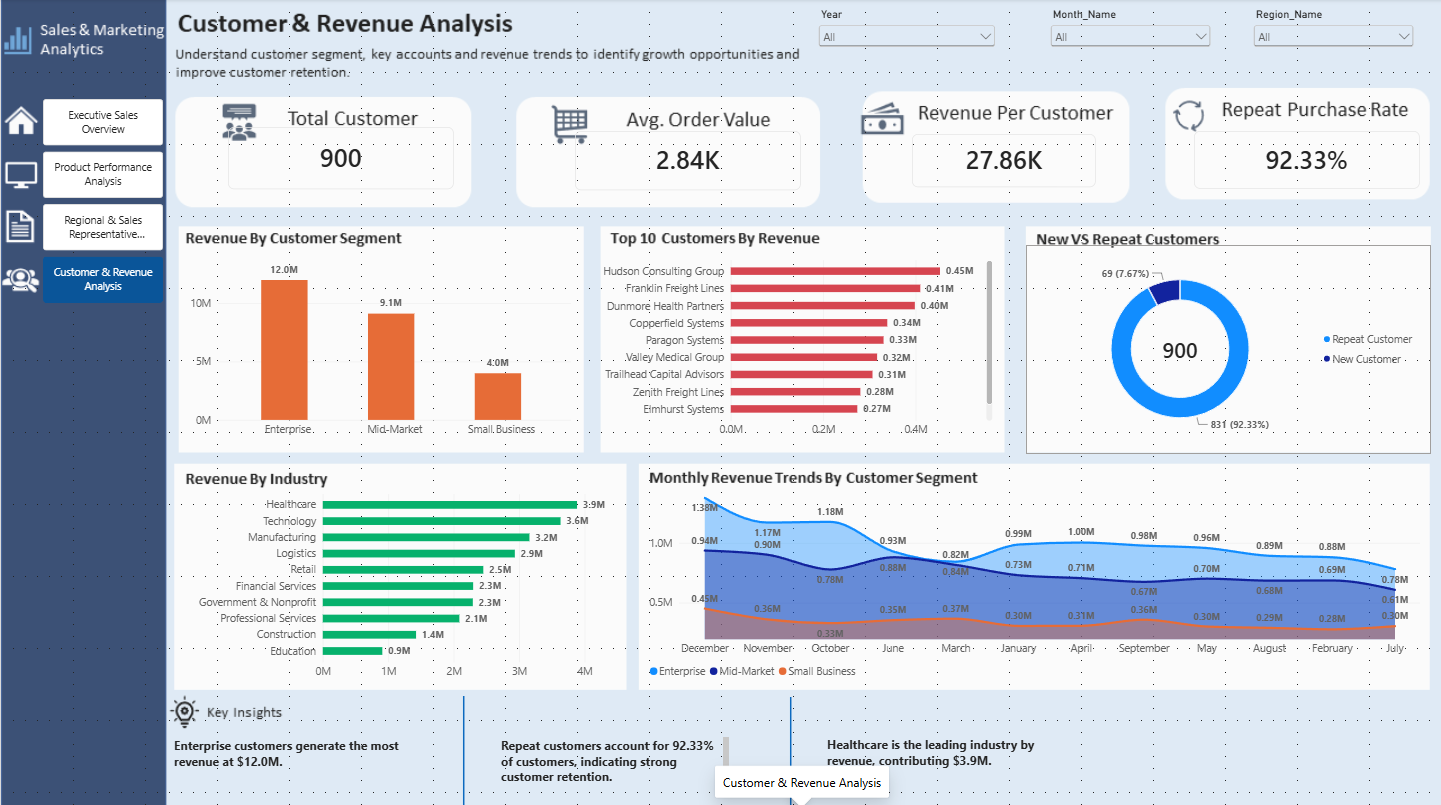

Layout of this report page (visuals, bound fields, positions):
{"tool":"powerbi","page":{"name":"Customer & Revenue Analysis","canvas":[1920,1080],"ordinal":3},"visuals":[{"type":"card","fields":{"Values":["Customers.Total Customer"]},"box":[302.2,170,300.6,83.4],"z":0},{"type":"card","fields":{"Values":["Sales_Transactions.Avg. Order Value"]},"box":[764.9,174.7,300.6,78.7],"z":1000},{"type":"card","fields":{"Values":["Customers.Repeat Purchase Rate %"]},"box":[1591.1,174.7,300.6,77.1],"z":2000},{"type":"clusteredColumnChart","fields":{"Category":["Customers.Customer_Segment"],"Y":["Sales_Transactions.Total Revenue"]},"box":[236.1,325.8,539.8,278.6],"z":3000},{"type":"clusteredBarChart","fields":{"Category":["Customers.Customer_Name"],"Y":["Sales_Transactions.Total Revenue"]},"box":[775.9,325.8,561.8,278.6],"z":4000},{"type":"donutChart","fields":{"Category":["Customers.Customer Type"],"Y":["Customers.Total Customer"]},"box":[1367.3,326.4,539.8,278.6],"z":5000},{"type":"clusteredBarChart","fields":{"Category":["Customers.Industry"],"Y":["Sales_Transactions.Total Revenue"]},"box":[236.1,637.4,598,288],"z":6000},{"type":"areaChart","fields":{"Category":["Sales_Transactions.Order_Date Hierarchy.Month_Name"],"Y":["Sales_Transactions.Total Revenue"],"Series":["Customers.Customer_Segment"]},"box":[847.5,637.7,1060.1,288],"z":7000},{"type":"pageNavigator","box":[56.7,132.2,160.5,273.8],"z":8000},{"type":"slicer","fields":{"Values":["Sales_Transactions.Order_Date Hierarchy.Year"]},"box":[1085.9,11,245.5,86.4],"z":9000},{"type":"slicer","fields":{"Values":["Regions.Region_Name"]},"box":[1665,11,223.5,86.6],"z":10000},{"type":"slicer","fields":{"Values":["Sales_Transactions.Order_Date Hierarchy.Month_Name"]},"box":[1394.4,11,223.5,86.6],"z":11000},{"type":"card","fields":{"Values":["Sales_Transactions.Revenue Per Customer"]},"box":[1214.7,178.7,245.3,70.7],"z":12000},{"type":"textbox","box":[230.4,983.3,304,72],"z":13000},{"type":"shape","box":[534.9,928.5,164.6,152.2],"z":14000},{"type":"textbox","box":[666.5,983.3,304,72],"z":14001},{"type":"shape","box":[971,929.8,164.6,152.2],"z":14002},{"type":"textbox","box":[1101.3,981.9,304,72],"z":14003}]}

Visuals, with their boxes on the page's 1920x1080 design canvas (x1, y1, x2, y2). These are canvas units, not pixel positions in the 1441x805 screenshot, which may show the page scaled, cropped or inside an application window:
card - Customers.Total Customer: (left=302, top=170, right=603, bottom=253)
card - Sales_Transactions.Avg. Order Value: (left=765, top=175, right=1066, bottom=253)
card - Customers.Repeat Purchase Rate %: (left=1591, top=175, right=1892, bottom=252)
clusteredColumnChart - Customers.Customer_Segment x Sales_Transactions.Total Revenue: (left=236, top=326, right=776, bottom=604)
clusteredBarChart - Customers.Customer_Name x Sales_Transactions.Total Revenue: (left=776, top=326, right=1338, bottom=604)
donutChart - Customers.Customer Type x Customers.Total Customer: (left=1367, top=326, right=1907, bottom=605)
clusteredBarChart - Customers.Industry x Sales_Transactions.Total Revenue: (left=236, top=637, right=834, bottom=925)
areaChart - Sales_Transactions.Order_Date Hierarchy.Month_Name x Sales_Transactions.Total Revenue: (left=848, top=638, right=1908, bottom=926)
pageNavigator: (left=57, top=132, right=217, bottom=406)
slicer - Sales_Transactions.Order_Date Hierarchy.Year: (left=1086, top=11, right=1331, bottom=97)
slicer - Regions.Region_Name: (left=1665, top=11, right=1888, bottom=98)
slicer - Sales_Transactions.Order_Date Hierarchy.Month_Name: (left=1394, top=11, right=1618, bottom=98)
card - Sales_Transactions.Revenue Per Customer: (left=1215, top=179, right=1460, bottom=249)
textbox: (left=230, top=983, right=534, bottom=1055)
shape: (left=535, top=928, right=700, bottom=1081)
textbox: (left=666, top=983, right=970, bottom=1055)
shape: (left=971, top=930, right=1136, bottom=1082)
textbox: (left=1101, top=982, right=1405, bottom=1054)
